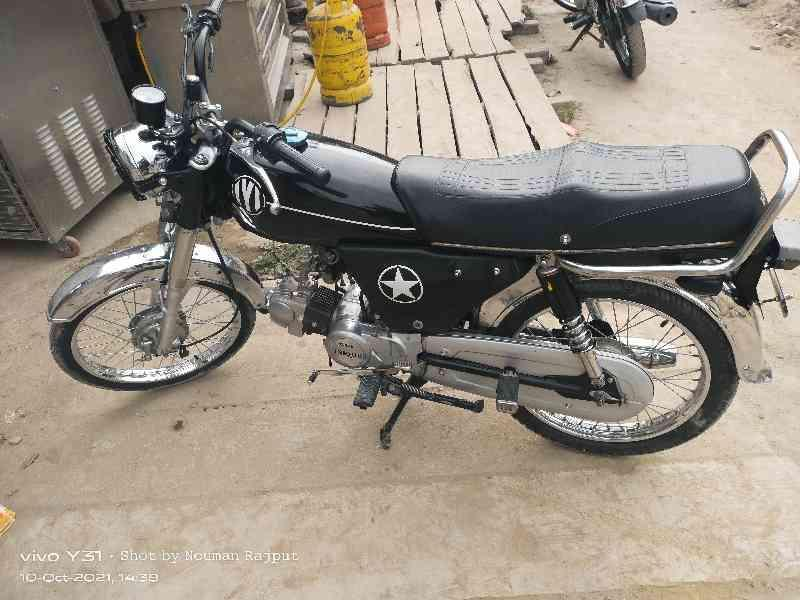motorcycle: (13, 8, 798, 464)
